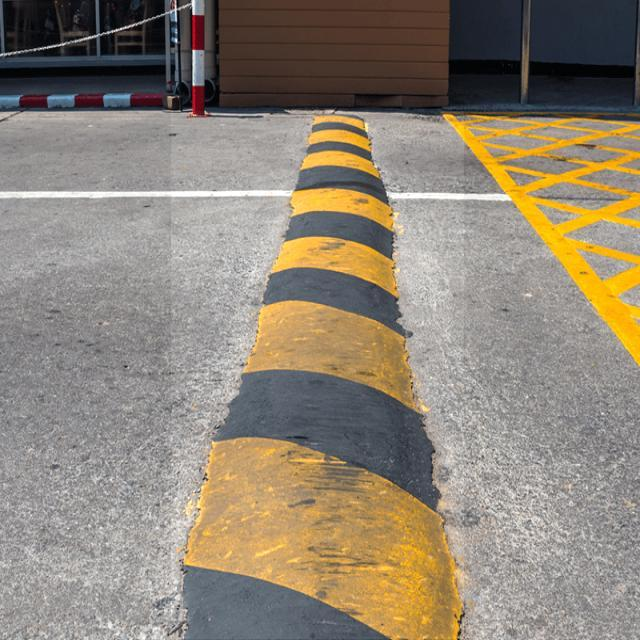speed-bump: (171, 111, 464, 639)
